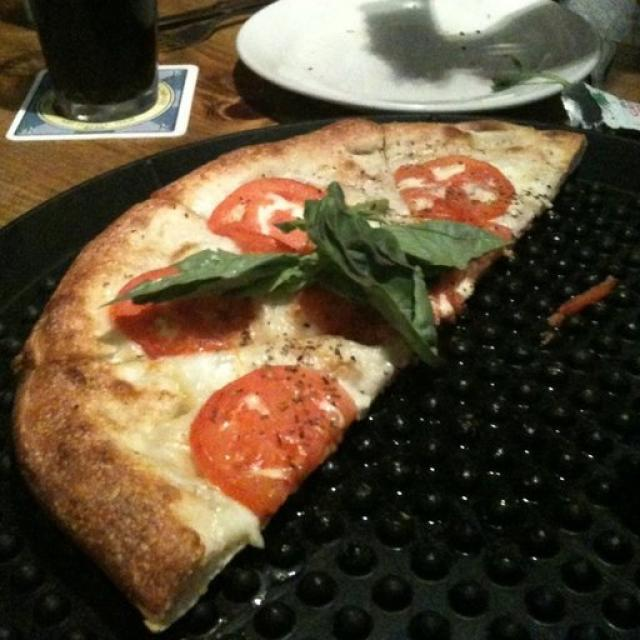Basil: (248, 200, 512, 352), (146, 238, 320, 312)
Pizza: (15, 120, 584, 630)
Tomato: (184, 366, 363, 520), (113, 267, 249, 353), (392, 145, 514, 225), (212, 176, 330, 251)
